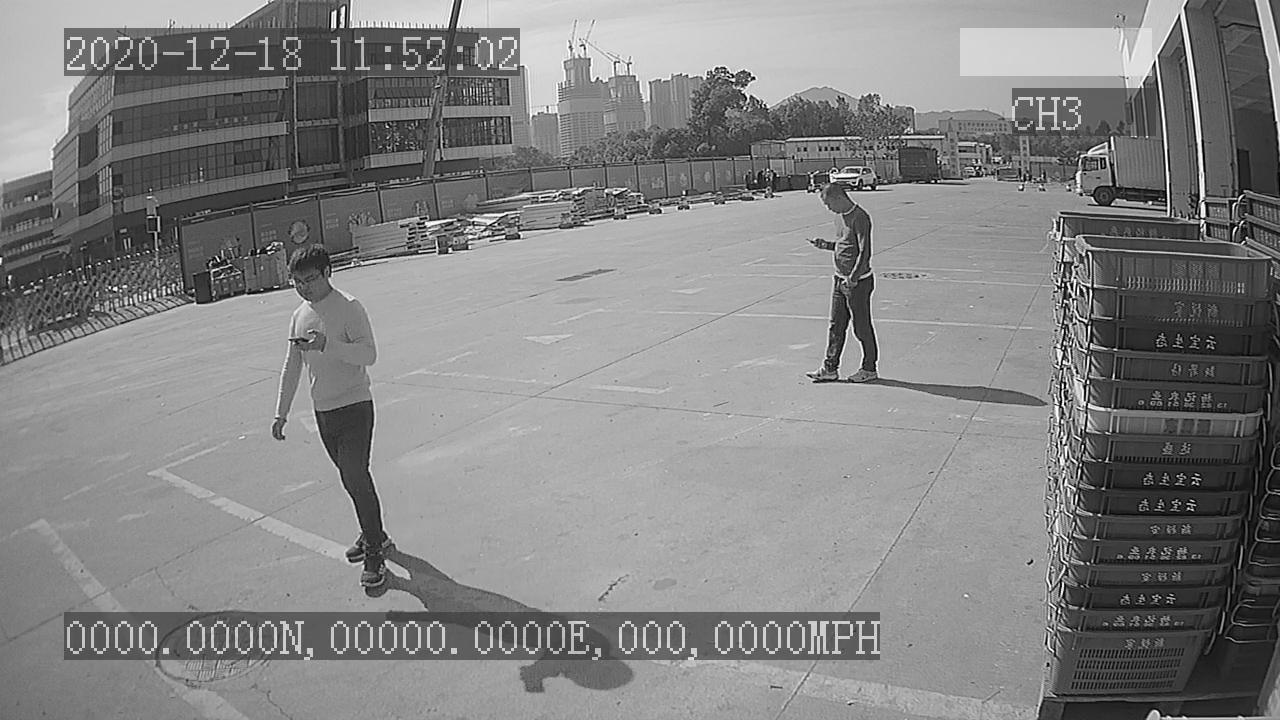person: (252, 235, 402, 597), (799, 170, 888, 392)
